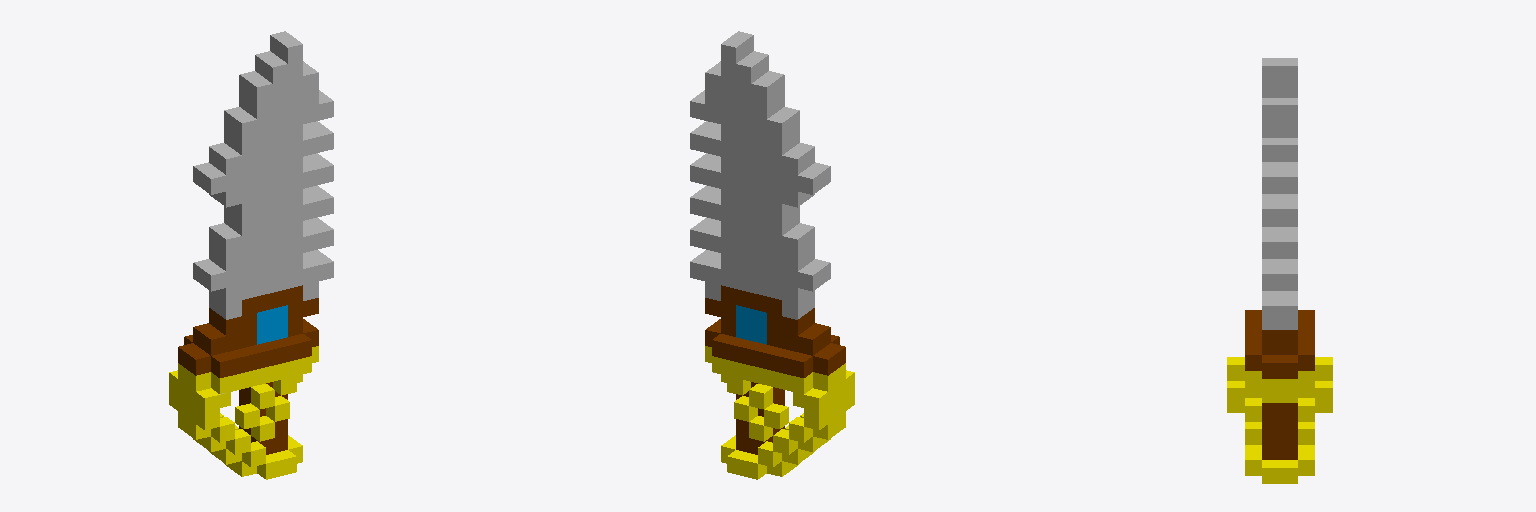
3 views of the same model, side by side, from view 1: azimuth 30°, elevation 25°; view 2: azimuth 150°, elevation 25°; view 3: azimuth 270°, elevation 25° (orthographic).
Parts seen in each view (by area): view 1: cube; view 2: cube; view 3: cube.
Part boxes in pixels (left/top/right/bottom): cube: left=169, top=31, right=333, bottom=479; cube: left=690, top=31, right=854, bottom=479; cube: left=1227, top=58, right=1332, bottom=483.
Bounding box in the file's own units: 9 × 26 × 6.
Materials: 1 (1 with a texture image).